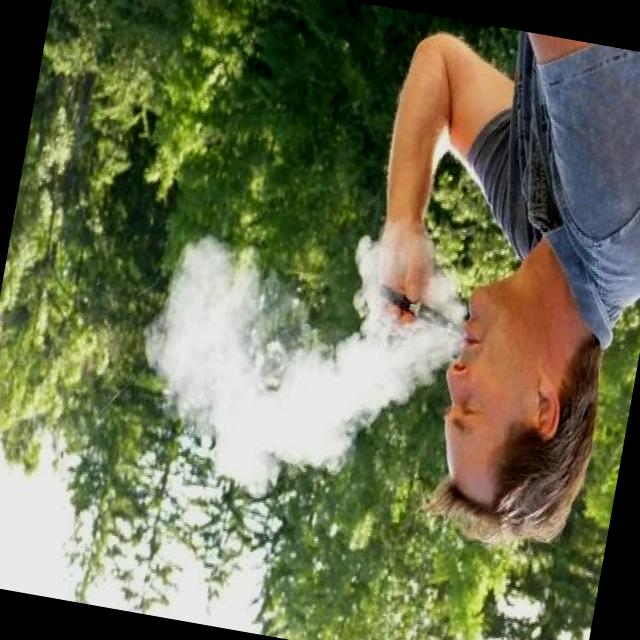smoke: (366, 274, 473, 340)
